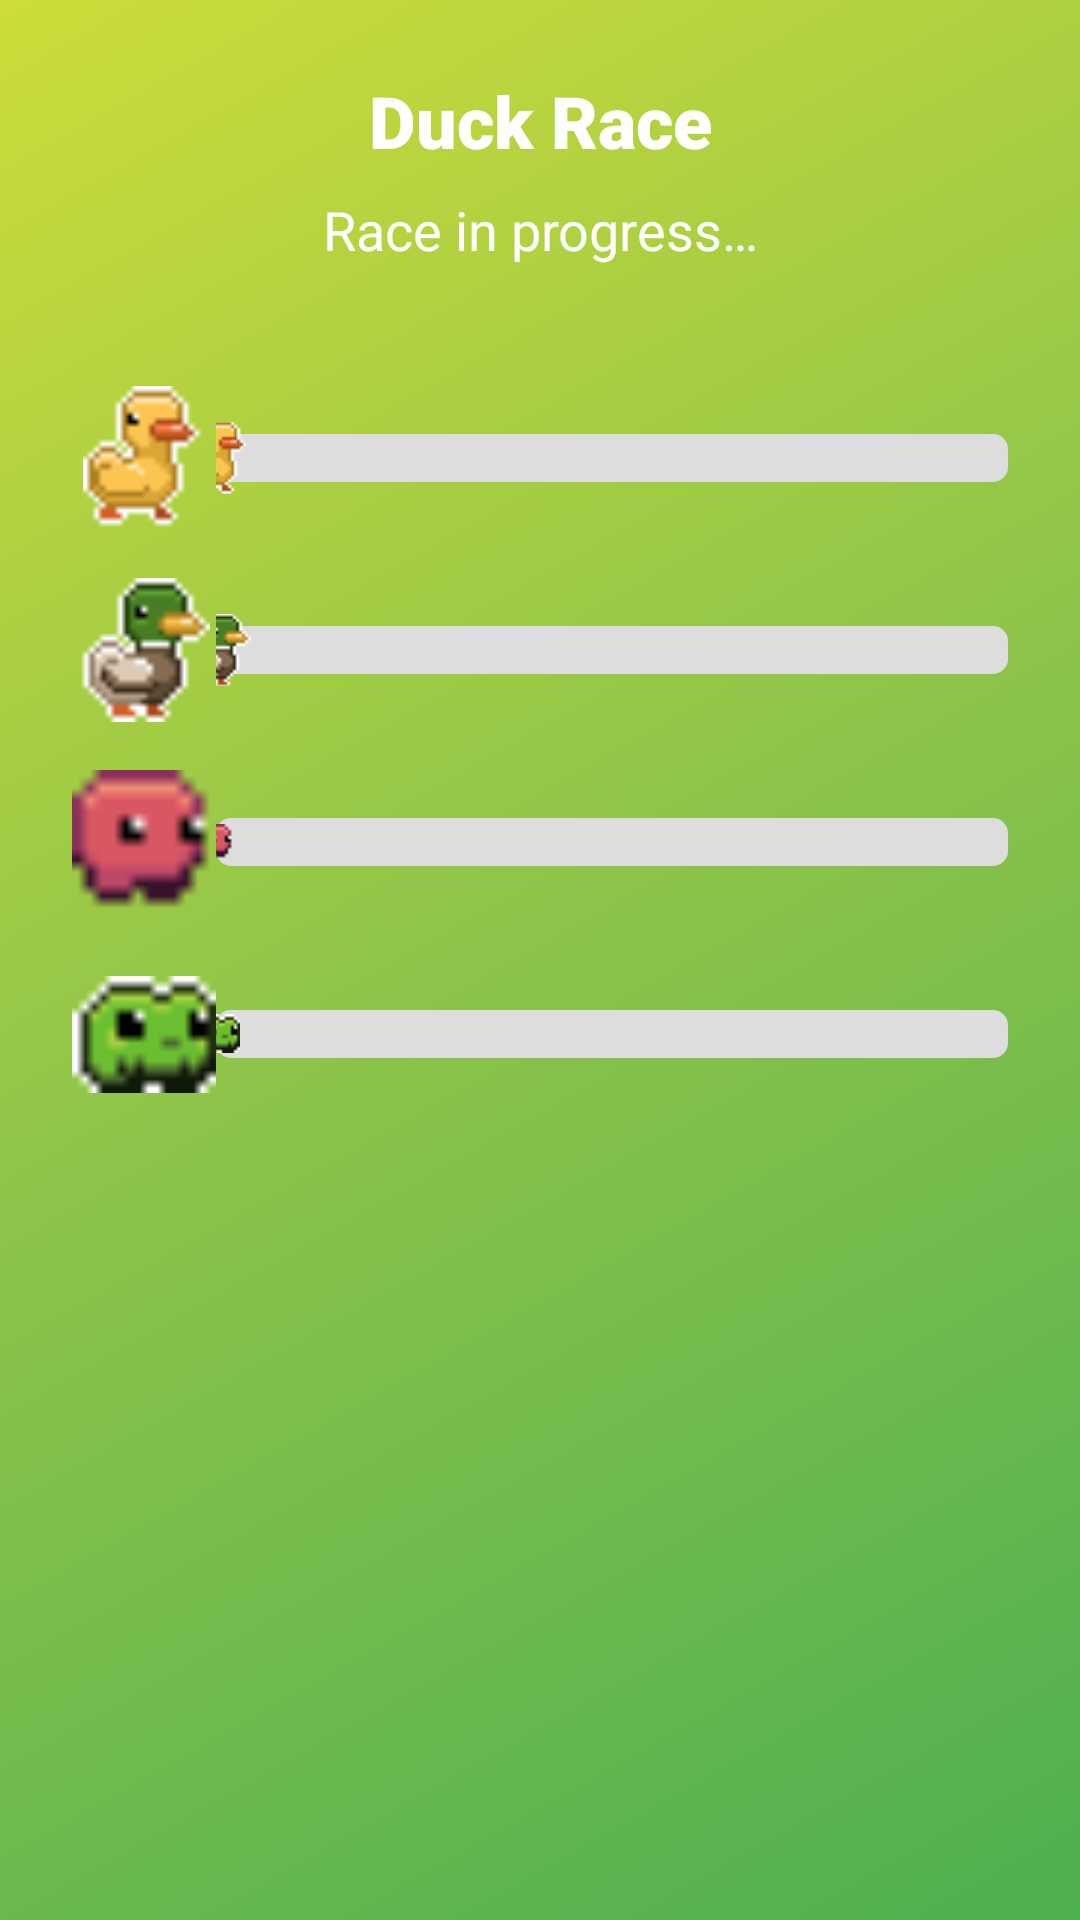

Icon click points for this 1080 x 1920 phone screenshot, format point (x, y):
Yellow Duck: point (142, 456)
